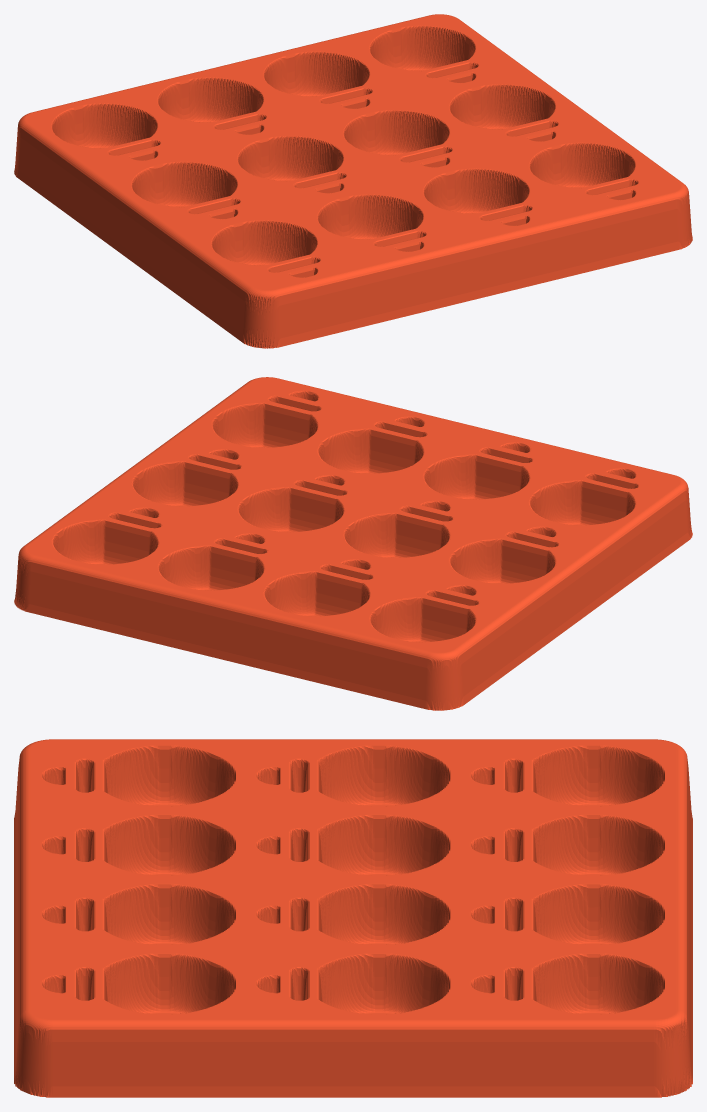
The model's file is mold.glb.
3 renders of one model, top to bottom at view 1: azimuth 30°, elevation 25°; view 2: azimuth 150°, elevation 25°; view 3: azimuth 270°, elevation 25°, orthographic. The views are drawn at different scales.
Visible parts, largest first — view 1: geometry_0; view 2: geometry_0; view 3: geometry_0.
Boxes of the visible parts, bbox=[...] form: geometry_0: bbox=[14, 14, 692, 348]; geometry_0: bbox=[14, 377, 692, 710]; geometry_0: bbox=[14, 739, 692, 1097].
Size of the model in its own units: 0.1629 by 0.0185 by 0.1598.
